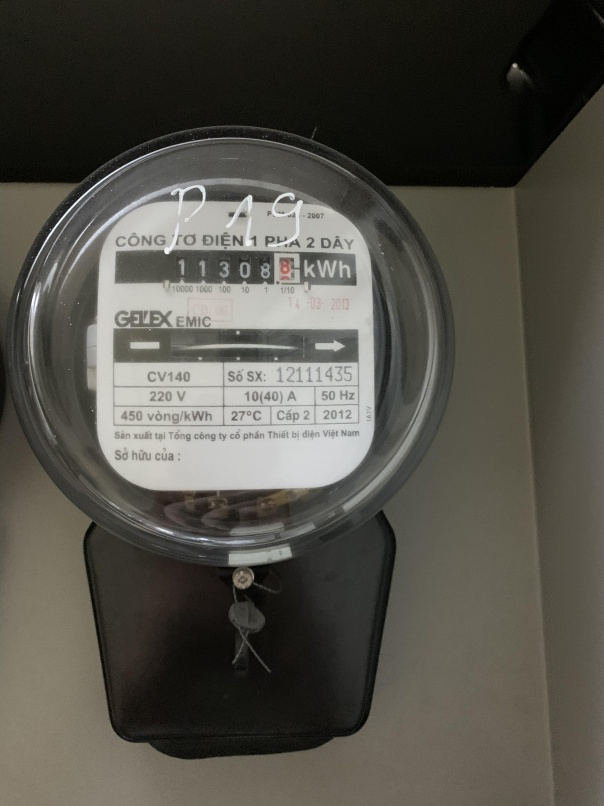counter: (113, 249, 360, 285)
electricity_meter: (8, 126, 458, 562)
